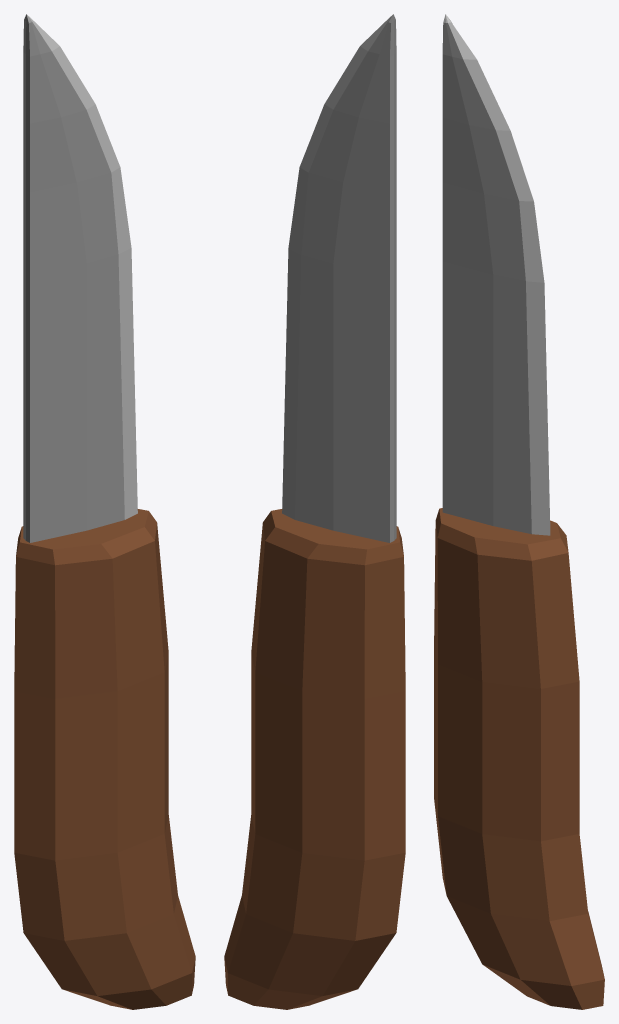
Rendered from knife01.gltf.
3 views of the same model, side by side, from view 1: azimuth 30°, elevation 25°; view 2: azimuth 150°, elevation 25°; view 3: azimuth 330°, elevation 25° (orthographic). The views are drawn at different scales.
Parts seen in each view (by area): view 1: Cylinder.001; view 2: Cylinder.001; view 3: Cylinder.001.
Boxes of the visible parts, bbox=[...] form: Cylinder.001: bbox=[14, 14, 195, 1009]; Cylinder.001: bbox=[224, 14, 405, 1009]; Cylinder.001: bbox=[434, 14, 604, 1009].
Size of the model in its own units: 0.0388 by 0.2067 by 0.0193.
1 material, 1 textured.
